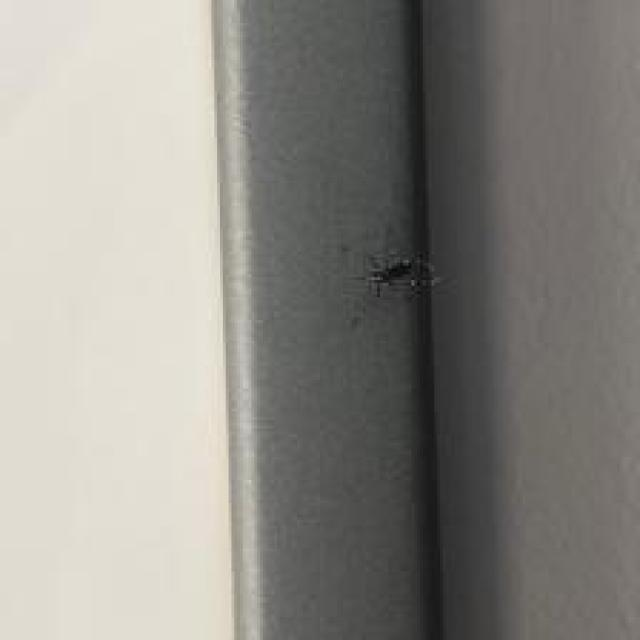Aedes albopictus: (354, 249, 446, 300)
